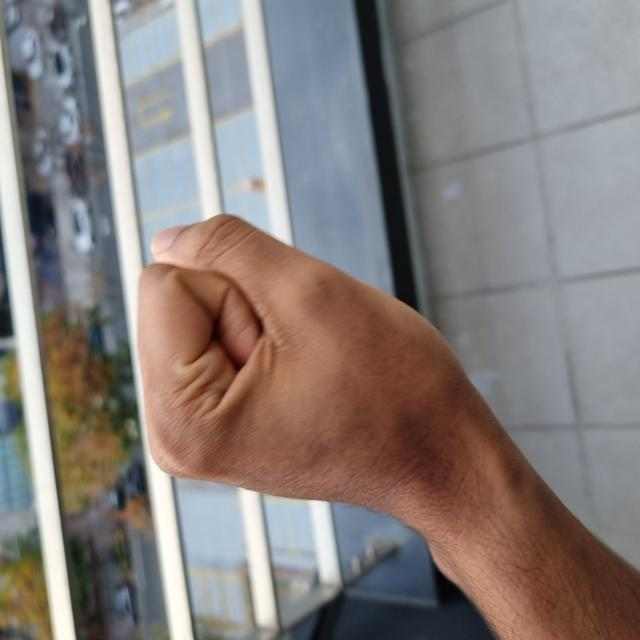Rock: (111, 132, 426, 487)
